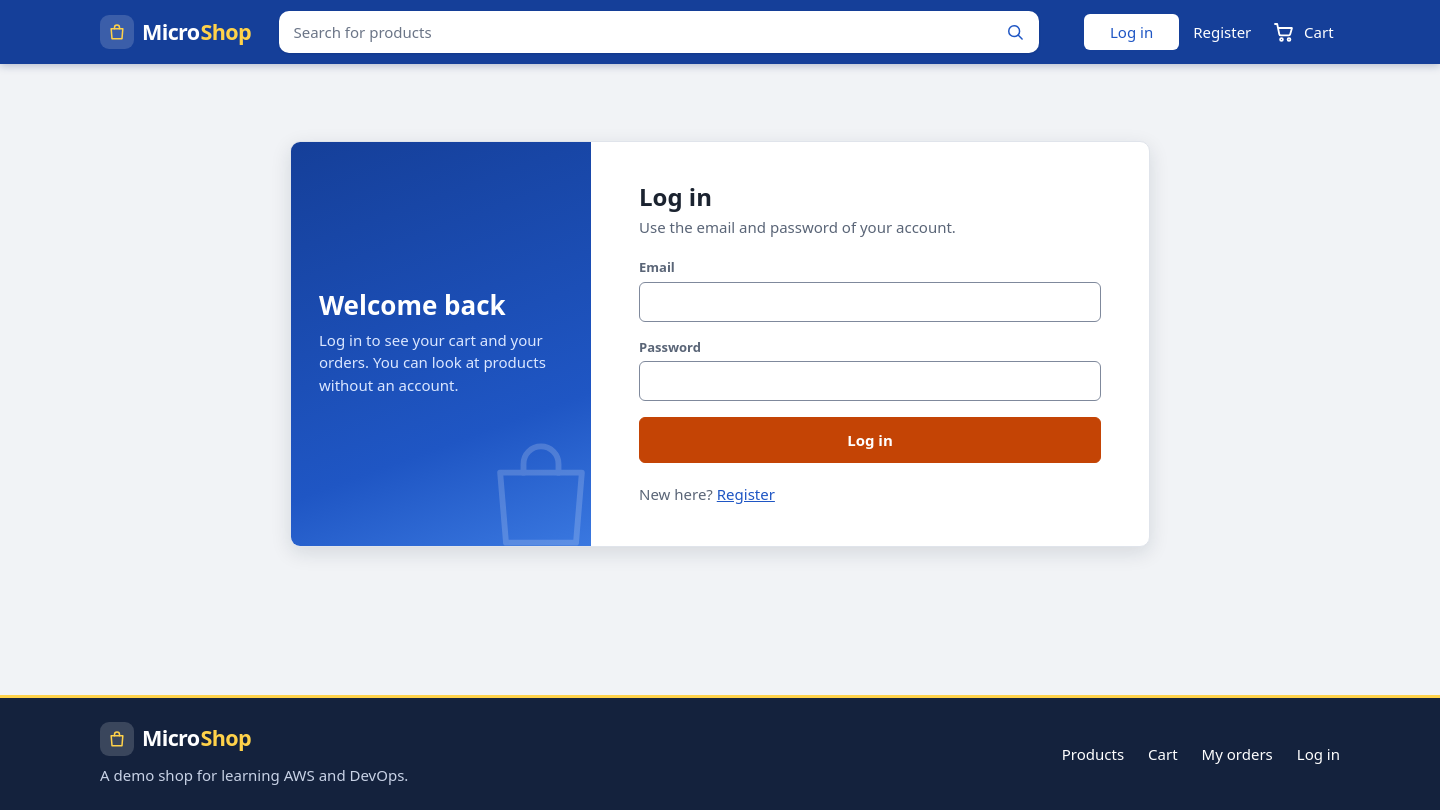
Test: App routes for login › a wrong password does not send the person anywhere else
The image size is (1440, 810).
Type "jane@example.com" into the field labelled "Email" at [870, 302], box left=639, top=282, right=1101, bottom=322
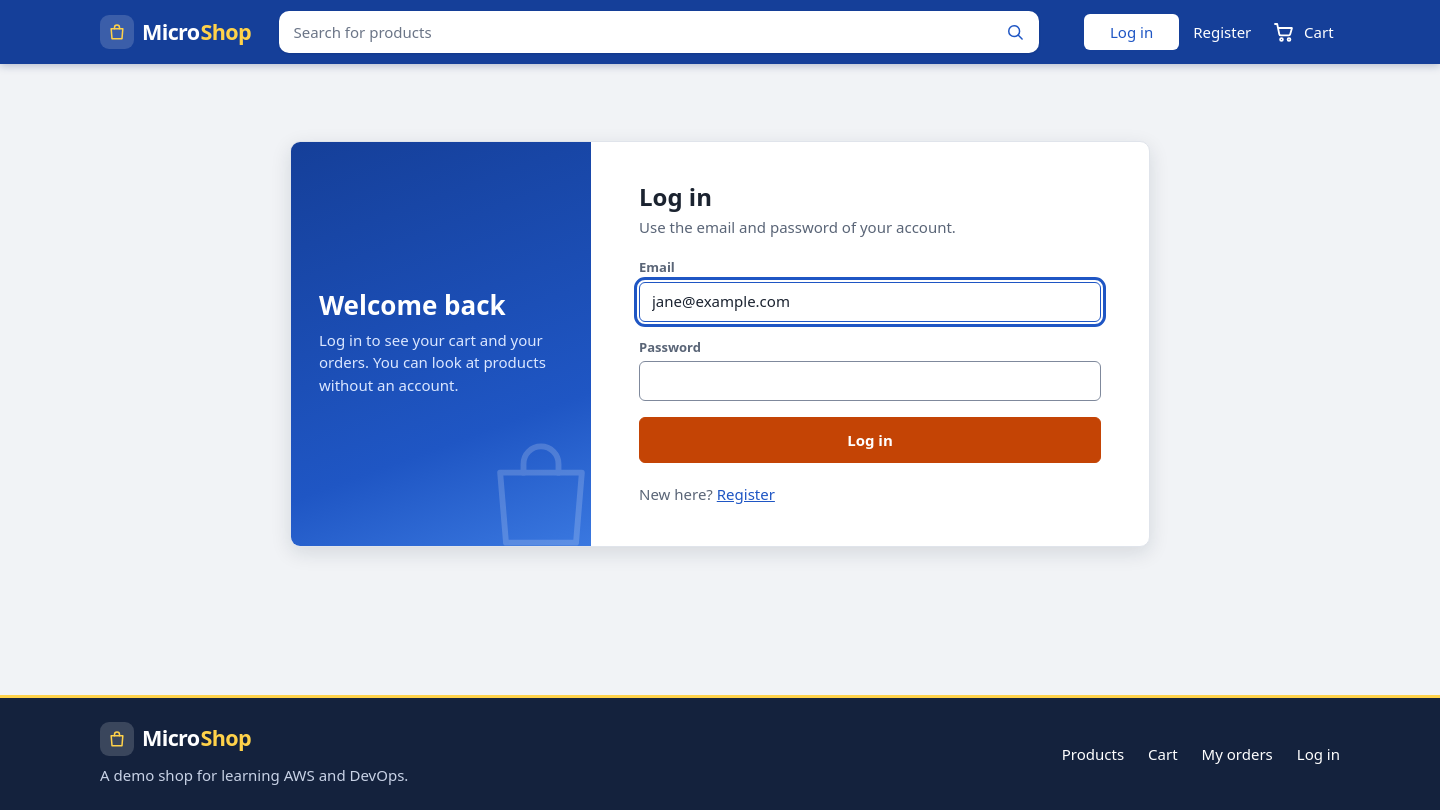
Type "wrong-password" into the password field labelled "Password" at [870, 381], box left=639, top=361, right=1101, bottom=401
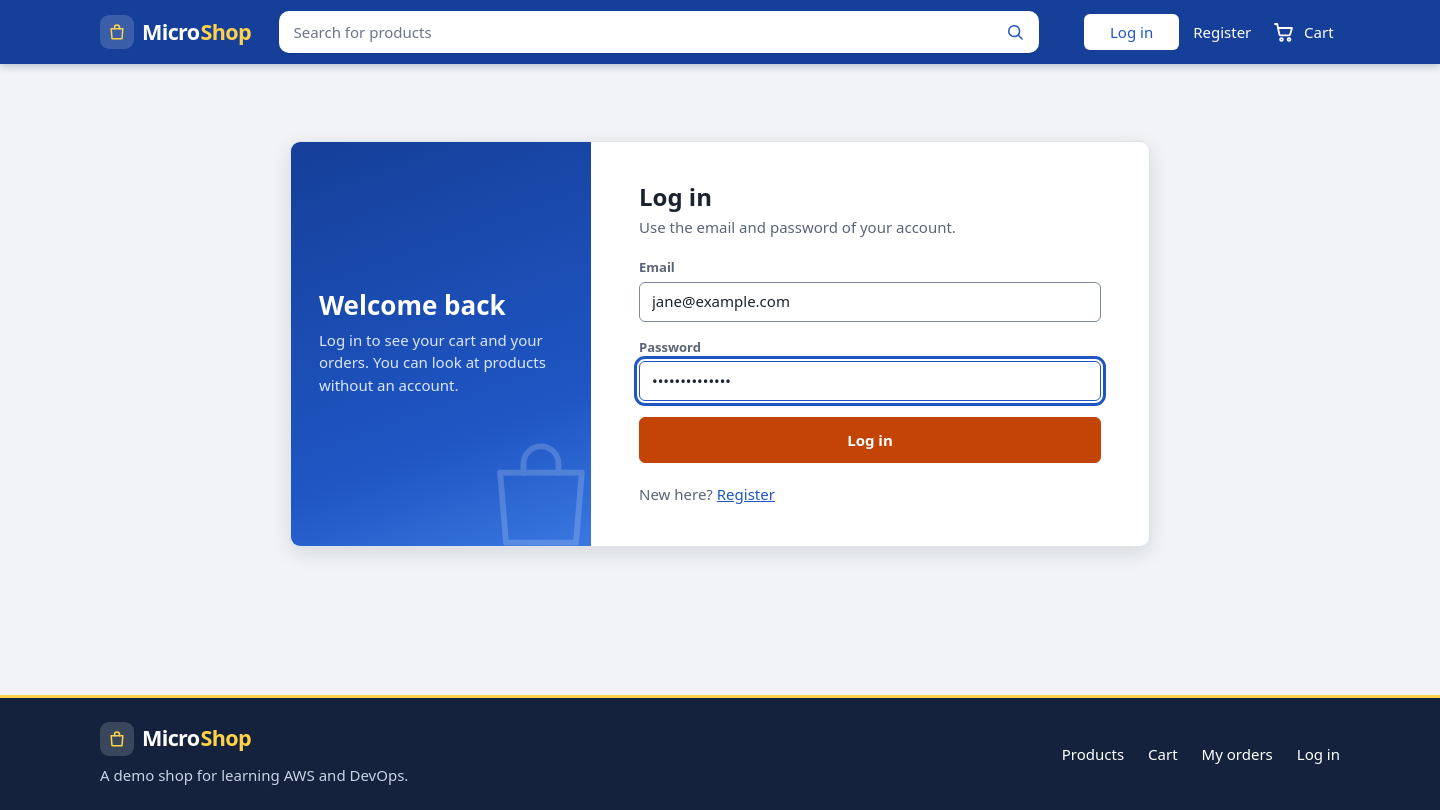
Click the button "Log in" at [870, 440], box left=639, top=417, right=1101, bottom=463
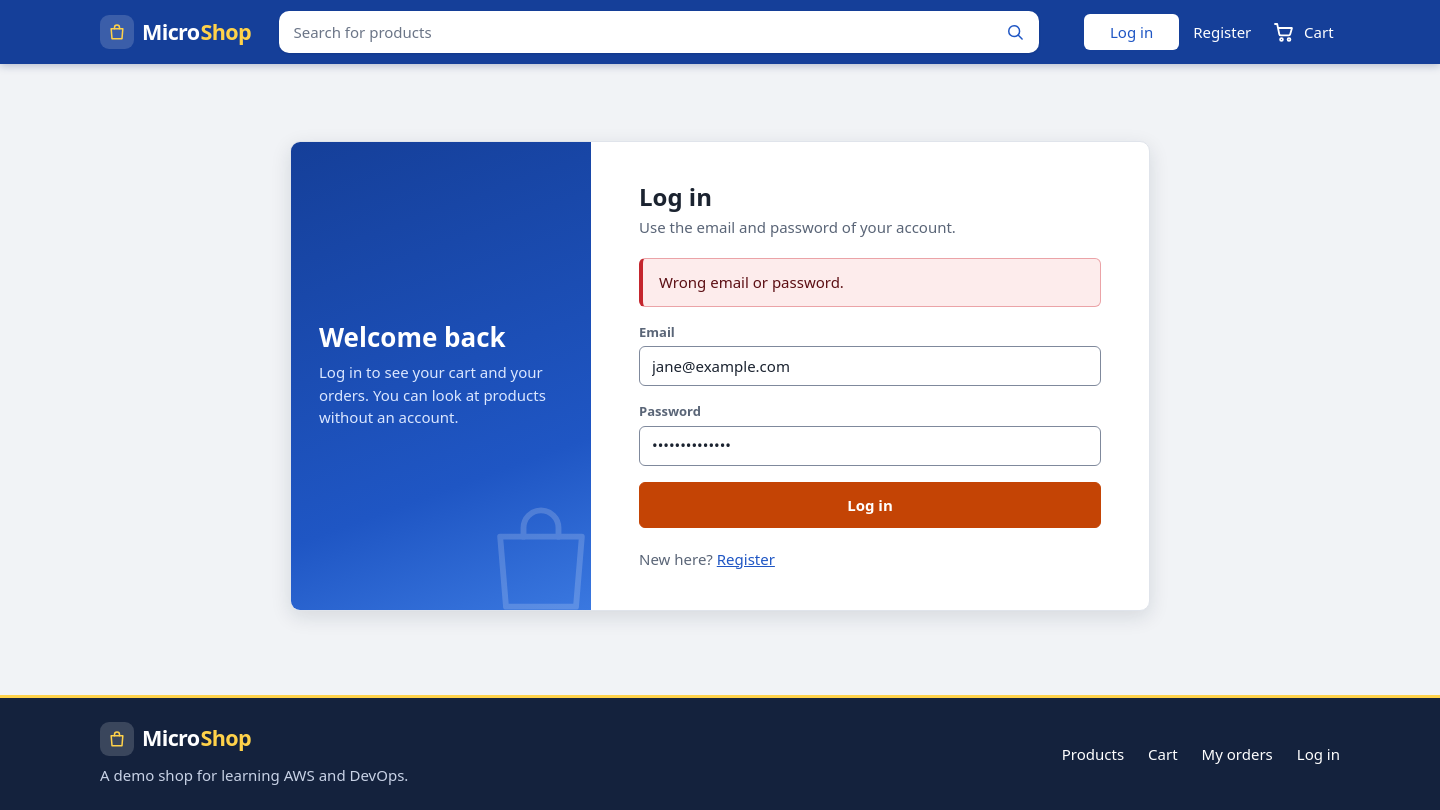
Expected: the message reads "Wrong email or password.", left=659, top=272, right=844, bottom=292
